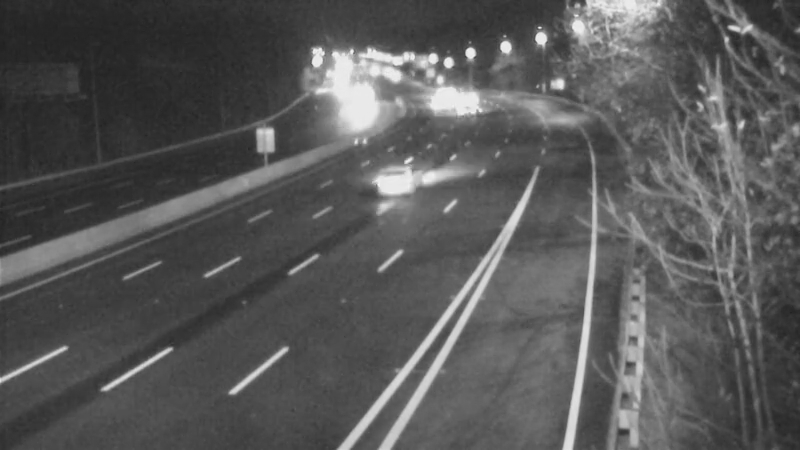vehicle: (359, 138, 439, 218), (422, 65, 472, 115), (414, 78, 464, 128), (438, 73, 488, 123), (445, 82, 495, 132), (332, 82, 382, 132)
